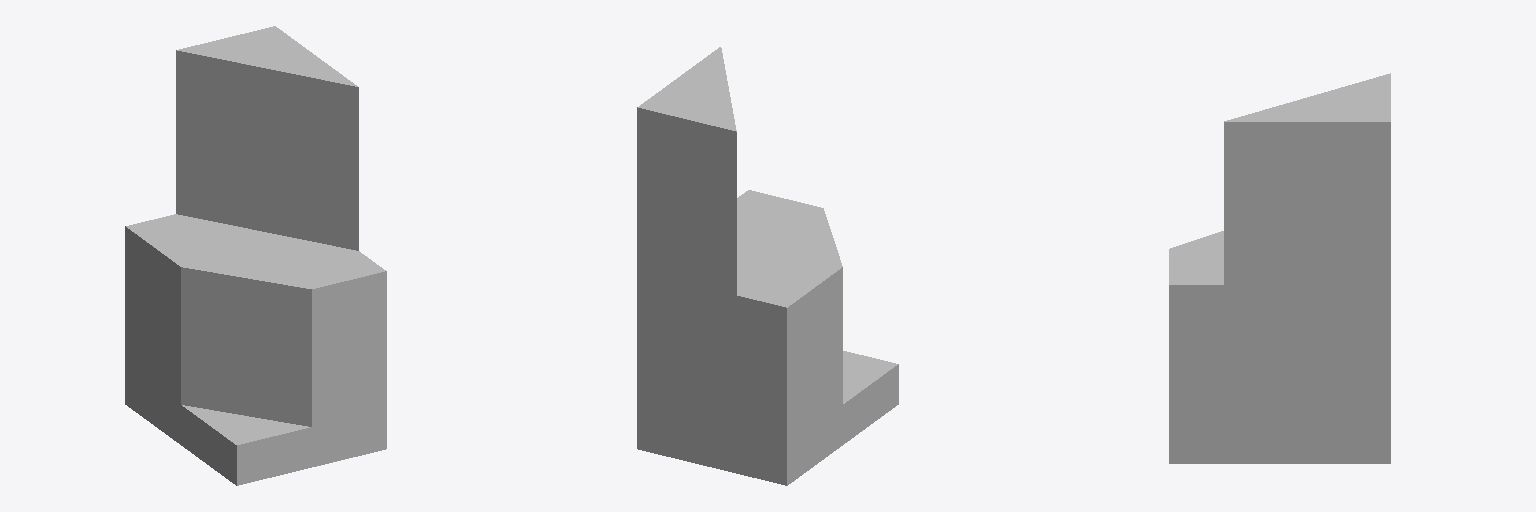
The model's file is office_2.obj.
3 views of the same model, side by side, from view 1: azimuth 30°, elevation 25°; view 2: azimuth 150°, elevation 25°; view 3: azimuth 270°, elevation 25° (orthographic).
Parts seen in each view (by area): view 1: Mesh1 Group1 Model; view 2: Mesh1 Group1 Model; view 3: Mesh1 Group1 Model.
Part boxes in pixels (left/top/right/bottom): Mesh1 Group1 Model: left=125, top=26, right=386, bottom=485; Mesh1 Group1 Model: left=637, top=47, right=898, bottom=485; Mesh1 Group1 Model: left=1169, top=73, right=1390, bottom=463.
Size of the model in its own units: 63.19 by 138 by 81.19.